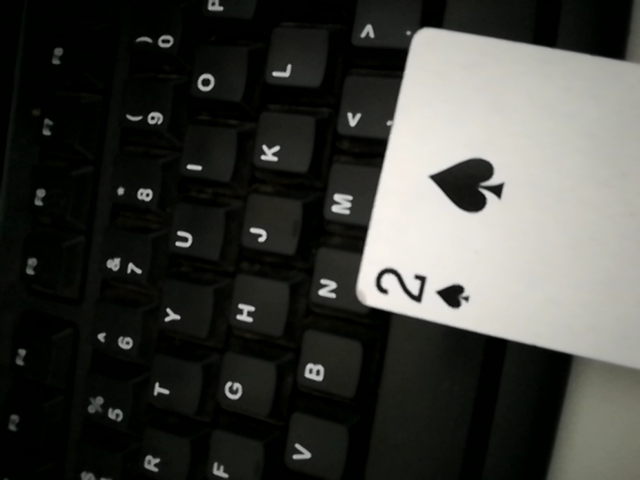ht 2: (345, 29, 640, 418)
